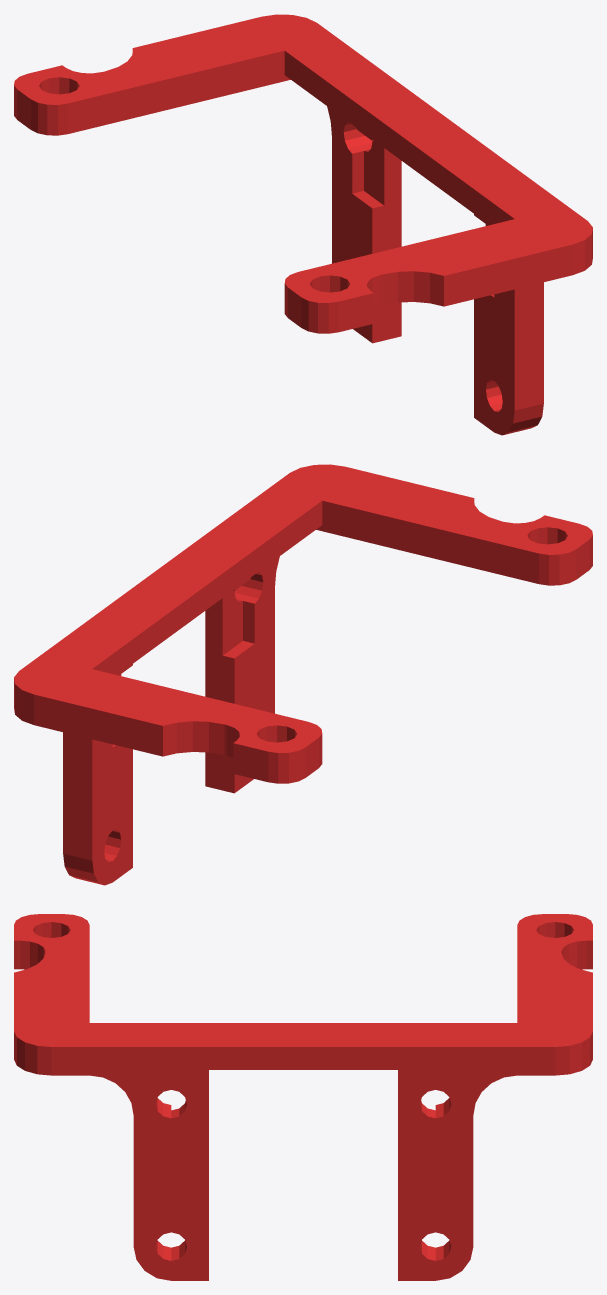
Rendered from ov5647_support.dae.
3 renders of one model, top to bottom at view 1: azimuth 30°, elevation 25°; view 2: azimuth 150°, elevation 25°; view 3: azimuth 270°, elevation 25°, orthographic. The views are drawn at different scales.
Visible parts, largest first — view 1: Ov5647 Support; view 2: Ov5647 Support; view 3: Ov5647 Support.
Boxes of the visible parts, <box> form: Ov5647 Support: <box>14,14,592,435</box>; Ov5647 Support: <box>14,464,592,885</box>; Ov5647 Support: <box>14,914,592,1280</box>.
Size of the model in its own units: 0.025 by 0.046 by 0.0205.
